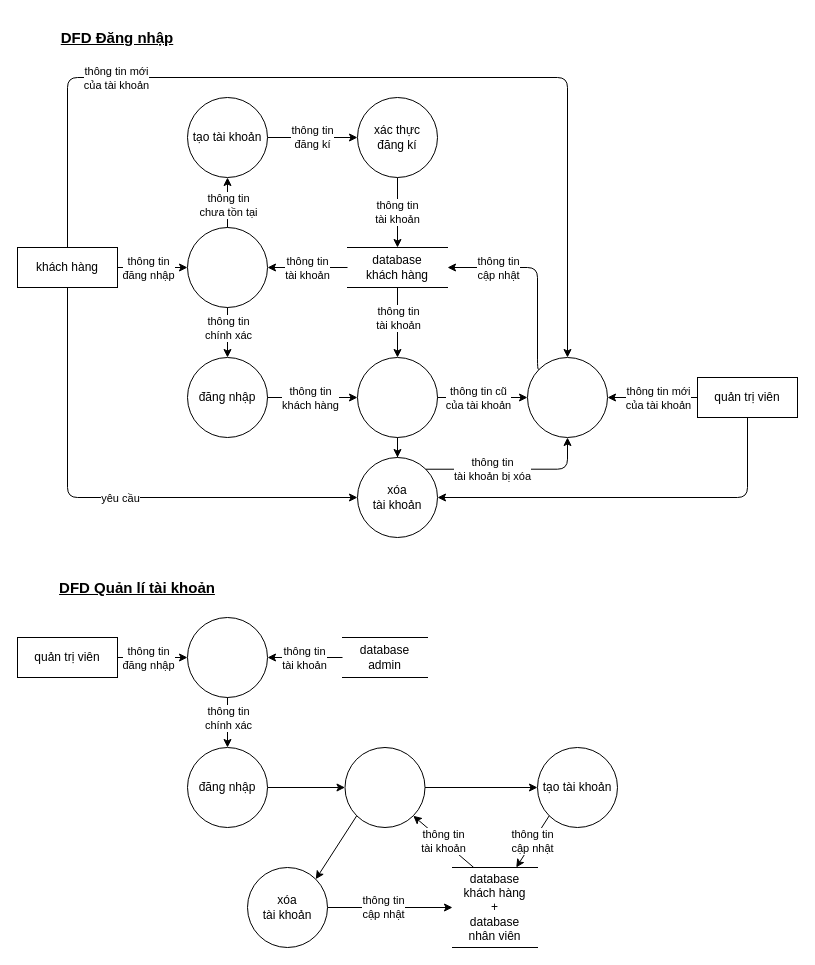
Image size: 815x965. Some labels were removed from this diagram. The shapes that lost their labels are listed below. From the top down, each one's centre as x and y in pixels, then its label:
[227,267]: xác nhận tài khoản
[397,397]: hiển thị thông tin tài khoản
[567,397]: cập nhật thông tin tài khoản
[227,657]: xác nhận đăng nhập
[384,787]: quản lí tài khoản
